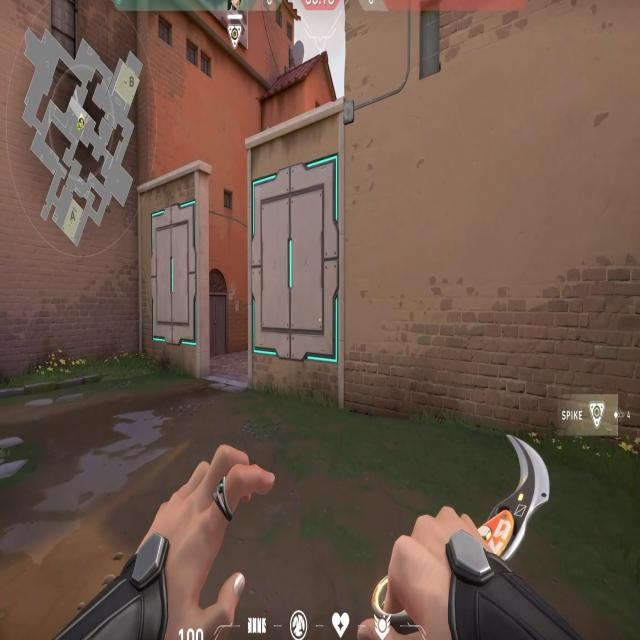Mid_Wall: (241, 152, 353, 388), (135, 167, 213, 375)
